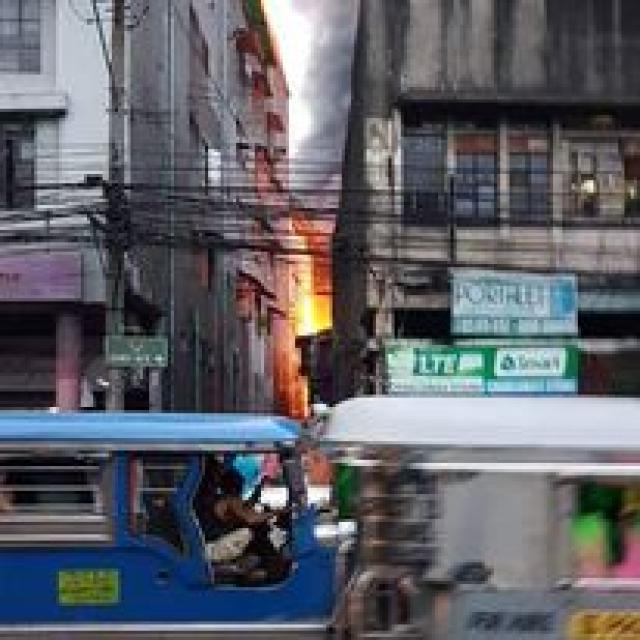Fire: (285, 216, 333, 410)
Smoke: (282, 0, 370, 227)
